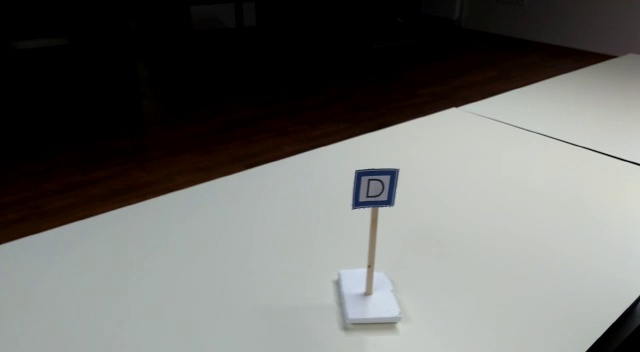durak: (353, 168, 400, 208)
